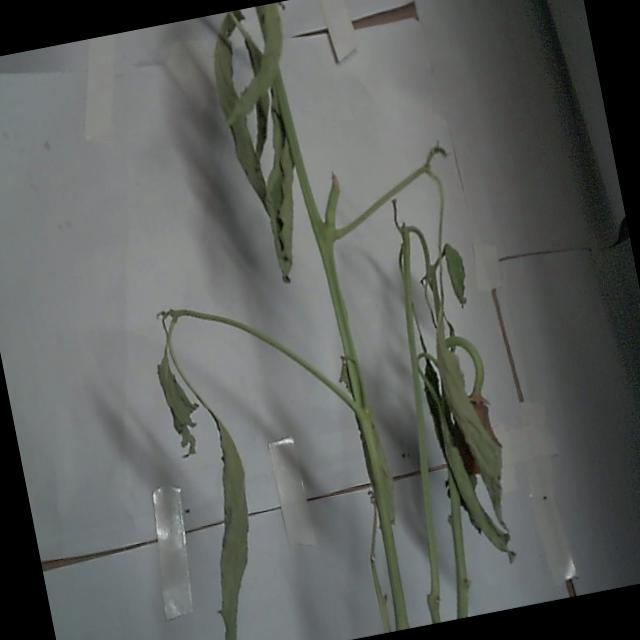Leaf: (183, 390, 280, 640), (425, 302, 514, 540), (204, 14, 275, 223), (151, 346, 209, 464)
